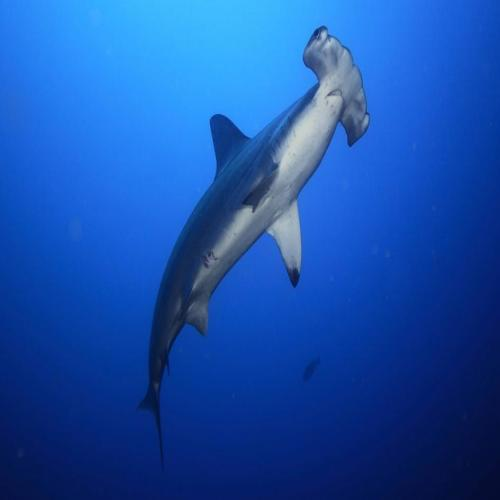shark-endangered: (138, 25, 371, 468)
